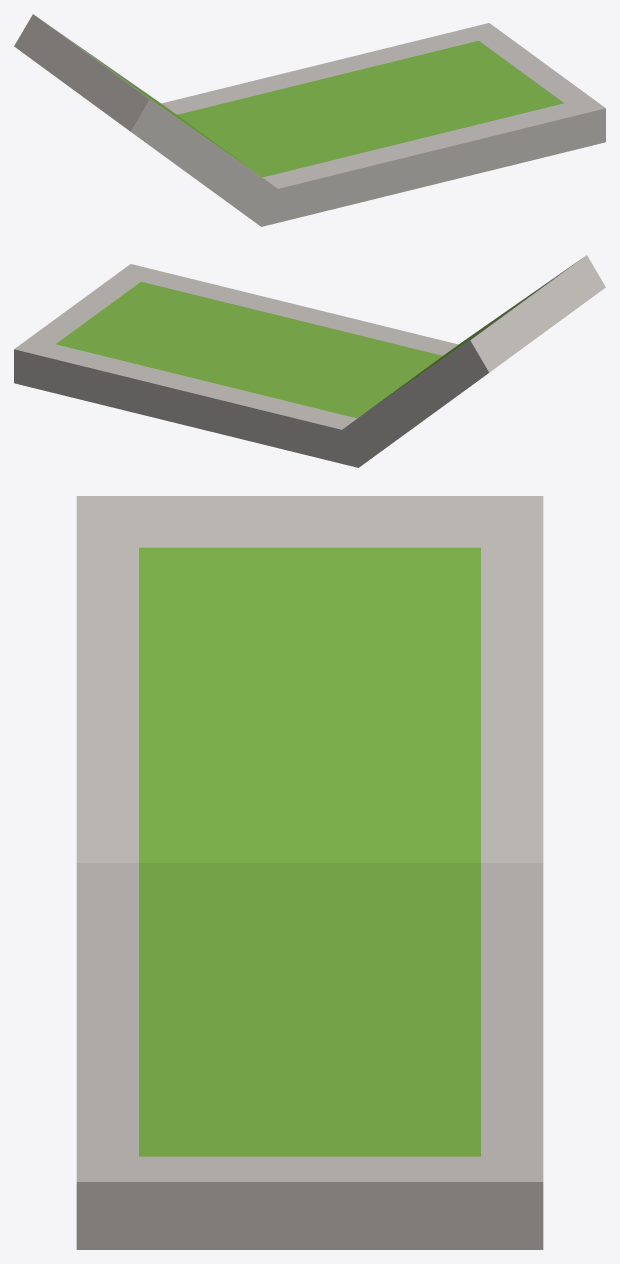
Rendered from zhuangshi_25.FBX.
The picture shows the model from 3 angles, top to bottom: view 1: azimuth 30°, elevation 25°; view 2: azimuth 150°, elevation 25°; view 3: azimuth 270°, elevation 25°; orthographic projection. The views are drawn at different scales.
Parts seen in each view (by area): view 1: zhuangshi_25; view 2: zhuangshi_25; view 3: zhuangshi_25.
Part boxes in pixels (left/top/right/bottom): zhuangshi_25: left=14, top=14, right=605, bottom=226; zhuangshi_25: left=14, top=255, right=605, bottom=467; zhuangshi_25: left=76, top=496, right=543, bottom=1249.
Bounding box in the file's own units: 531 × 165 × 226.
